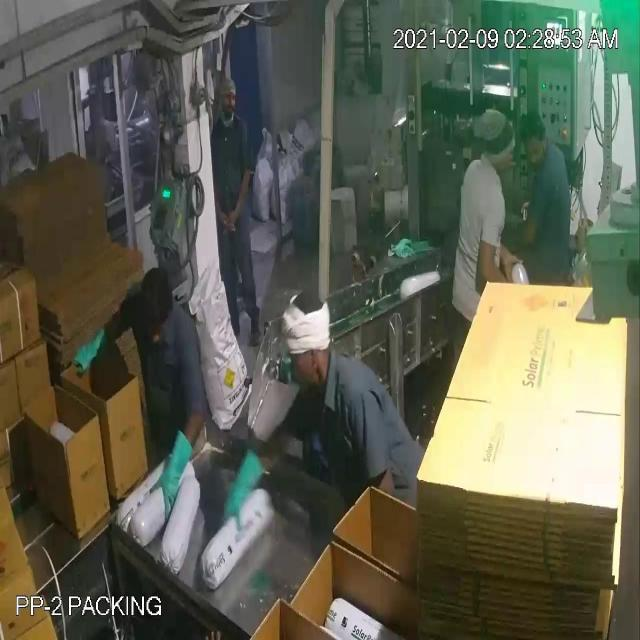Gloves: (26, 57, 514, 494)
